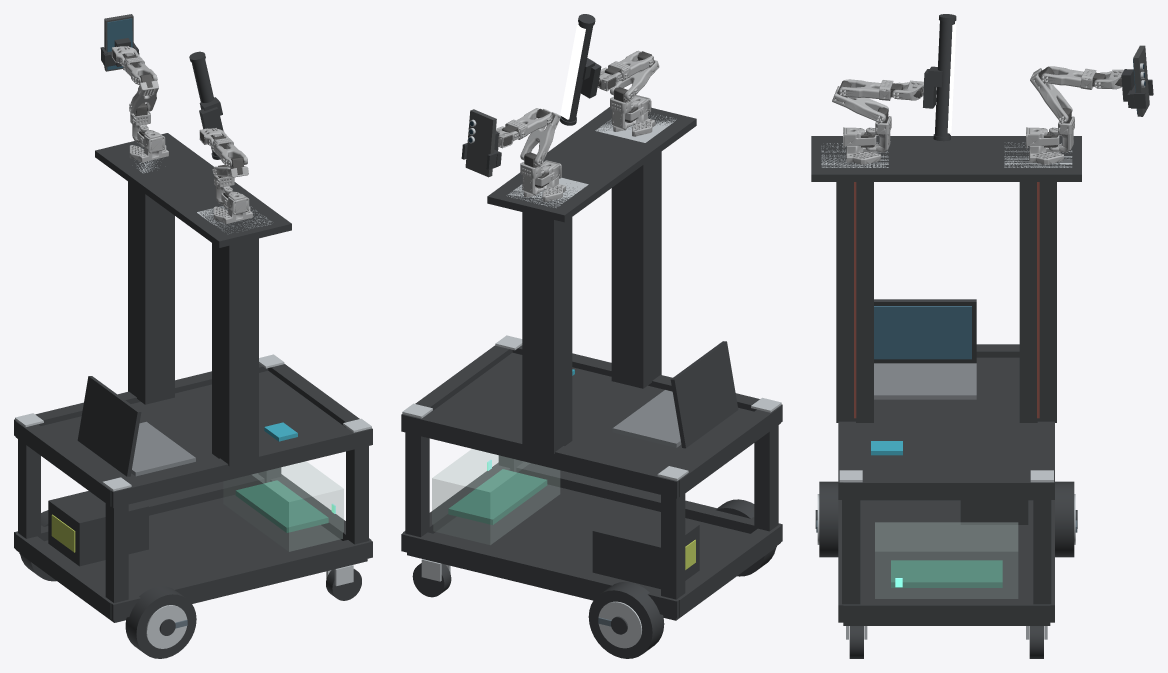
Rendered from take-one-tube.glb.
3 views of the same model, side by side, from view 1: azimuth 30°, elevation 25°; view 2: azimuth 150°, elevation 25°; view 3: azimuth 270°, elevation 25° (orthographic). The views are drawn at different scales.
Visible parts, largest first — view 1: cart_box, upright_rear, upright_front, cart_work_deck, cart_deck, electronics_box, frame_side_0.25_0.49, frame_side_0.25_0.15, battery, laptop_lid, frame_end_-0.39_0.15, frame_end_-0.39_0.49 (+18 smaller); view 2: upright_front, cart_work_deck, upright_rear, cart_box, electronics_box, cart_deck, frame_side_-0.25_0.49, frame_side_-0.25_0.15, battery, laptop_lid, frame_side_0.25_0.15, frame_end_-0.39_0.49 (+22 smaller); view 3: cart_work_deck, cart_box, electronics_box, cart_deck, upright_front, upright_rear, laptop_screen, frame_end_0.39_0.49, frame_end_0.39_0.15, laptop_keyboard, electronics_board, corner_leg_-0.24_0.38 (+22 smaller).
Part boxes in pixels (x1,y1,x2,y2): cart_box: [19, 495, 367, 622]; upright_rear: [212, 238, 258, 466]; upright_front: [128, 181, 174, 404]; cart_work_deck: [41, 371, 345, 481]; cart_deck: [95, 133, 291, 247]; electronics_box: [223, 461, 343, 551]; frame_side_0.25_0.49: [108, 427, 372, 507]; frame_side_0.25_0.15: [111, 540, 372, 620]; battery: [48, 491, 148, 566]; laptop_lid: [77, 376, 141, 476]; frame_end_-0.39_0.15: [15, 534, 112, 619]; frame_end_-0.39_0.49: [15, 421, 112, 506]; upright_front: [522, 212, 572, 453]; cart_work_deck: [430, 352, 753, 469]; upright_rear: [611, 151, 661, 388]; cart_box: [407, 484, 776, 620]; electronics_box: [432, 449, 559, 544]; cart_deck: [487, 107, 696, 222]; frame_side_-0.25_0.49: [401, 413, 684, 498]; frame_side_-0.25_0.15: [401, 532, 684, 618]; battery: [592, 507, 699, 589]; laptop_lid: [670, 341, 738, 448]; frame_side_0.25_0.15: [516, 461, 782, 541]; frame_end_-0.39_0.49: [677, 406, 780, 496]; cart_work_deck: [856, 357, 1037, 475]; cart_box: [843, 500, 1050, 625]; electronics_box: [875, 522, 1017, 598]; cart_deck: [811, 136, 1081, 181]; upright_front: [1019, 182, 1056, 422]; upright_rear: [836, 182, 873, 422]; laptop_screen: [874, 306, 971, 359]; frame_end_0.39_0.49: [843, 475, 1050, 500]; frame_end_0.39_0.15: [843, 598, 1050, 622]; laptop_keyboard: [874, 363, 976, 399]; electronics_board: [891, 560, 1002, 587]; corner_leg_-0.24_0.38: [1033, 500, 1051, 604].
Bounding box in the file's own units: 0.824 × 1.63 × 0.8594.
